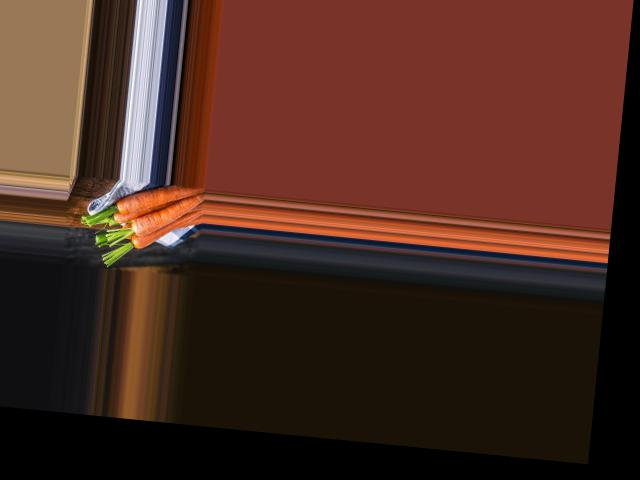carrot: (104, 178, 205, 221)
